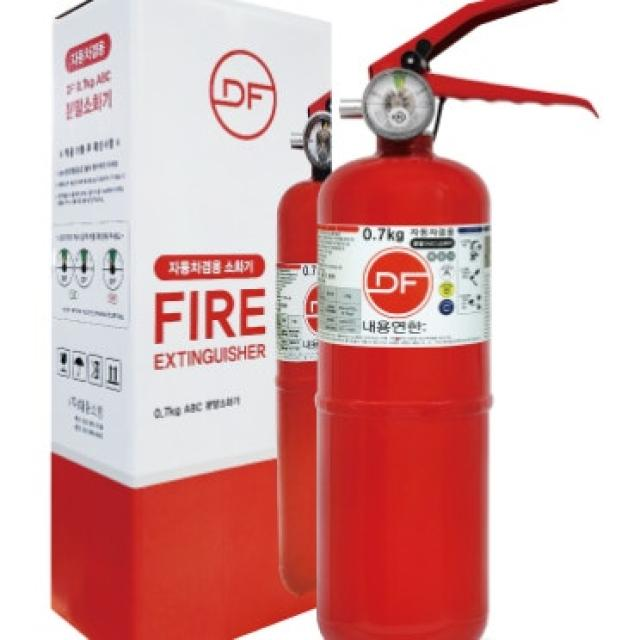pressure gauge: (364, 69, 435, 141), (303, 112, 332, 170)
